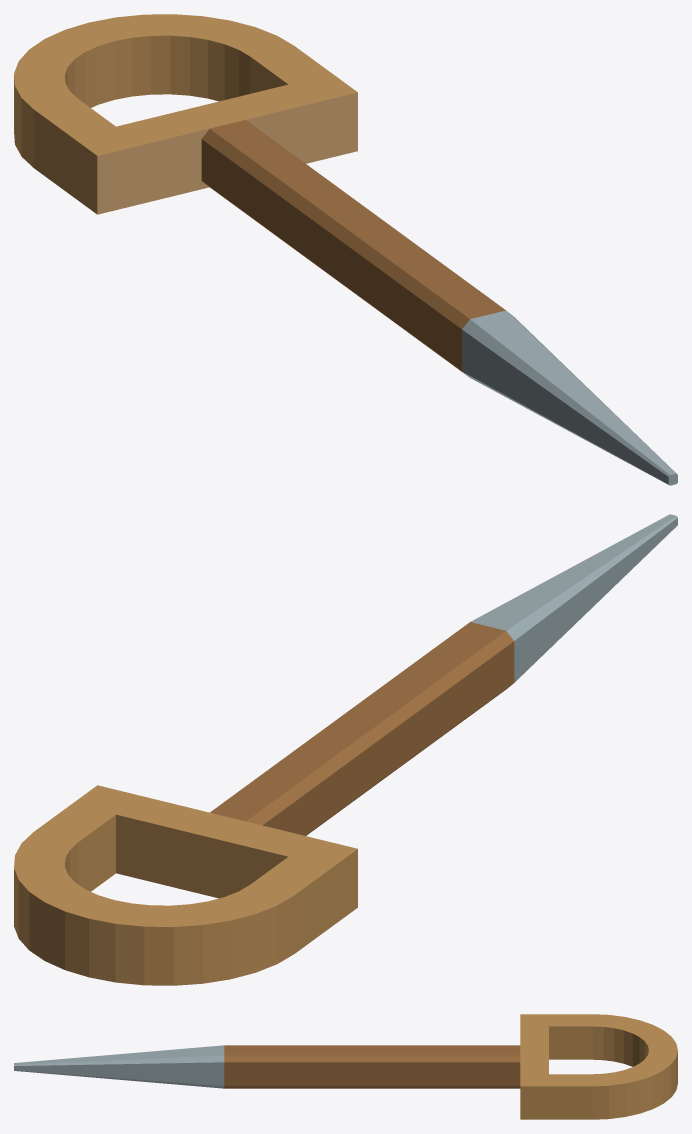
3 views of the same model, one above another, from view 1: azimuth 30°, elevation 25°; view 2: azimuth 150°, elevation 25°; view 3: azimuth 270°, elevation 25° (orthographic). The views are drawn at different scales.
Visible parts, largest first — view 1: ContinuousOpenDLoopWoodGrip, LongOctagonalWoodShaft, BluntOctagonalTaperedMetalTip; view 2: ContinuousOpenDLoopWoodGrip, LongOctagonalWoodShaft, BluntOctagonalTaperedMetalTip; view 3: ContinuousOpenDLoopWoodGrip, LongOctagonalWoodShaft, BluntOctagonalTaperedMetalTip.
Boxes of the visible parts, box(x1,y1,x2,y2) form: ContinuousOpenDLoopWoodGrip: box(14, 14, 357, 214); LongOctagonalWoodShaft: box(201, 120, 505, 375); BluntOctagonalTaperedMetalTip: box(462, 310, 677, 485); ContinuousOpenDLoopWoodGrip: box(14, 785, 357, 985); LongOctagonalWoodShaft: box(210, 622, 514, 835); BluntOctagonalTaperedMetalTip: box(470, 514, 677, 682); ContinuousOpenDLoopWoodGrip: box(520, 1014, 677, 1119); LongOctagonalWoodShaft: box(224, 1045, 520, 1088); BluntOctagonalTaperedMetalTip: box(14, 1045, 224, 1088).
Size of the model in its own units: 0.13 by 0.028 by 0.505.
